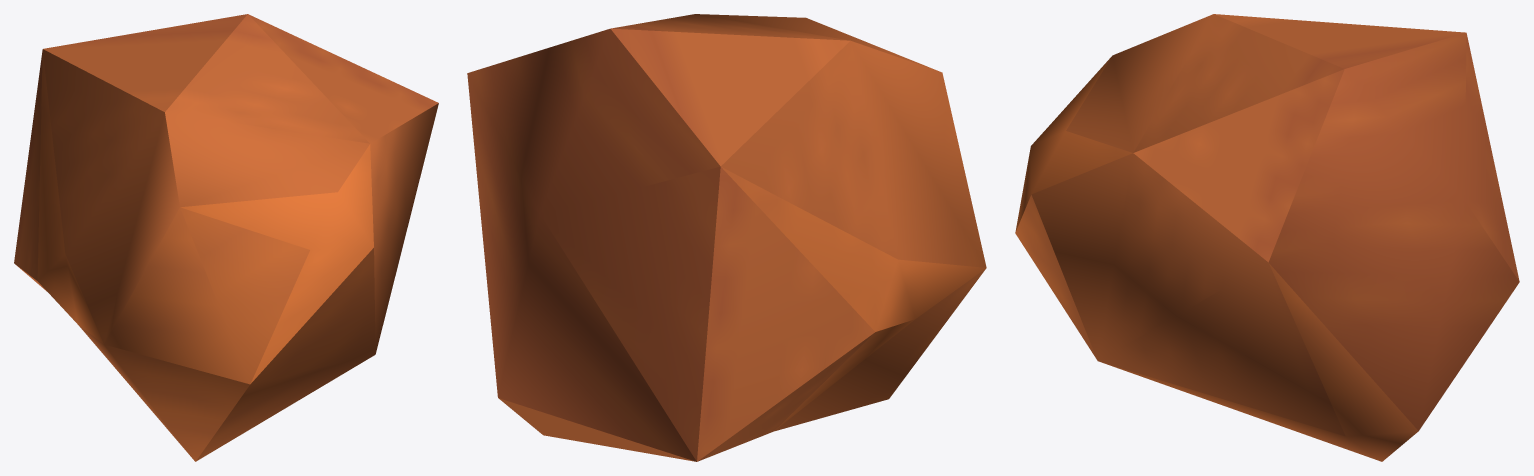
File: copper-nugget-small.glb
3 renders of one model, left to right at view 1: azimuth 30°, elevation 25°; view 2: azimuth 150°, elevation 25°; view 3: azimuth 270°, elevation 25°, orthographic. The views are drawn at different scales.
Parts seen in each view (by area): view 1: Copper_Nugget_Small; view 2: Copper_Nugget_Small; view 3: Copper_Nugget_Small.
Boxes of the visible parts, x1=… form: Copper_Nugget_Small: x1=14, y1=14, x2=438, y2=461; Copper_Nugget_Small: x1=467, y1=14, x2=986, y2=461; Copper_Nugget_Small: x1=1015, y1=14, x2=1519, y2=461.
Size of the model in its own units: 0.1411 by 0.1204 by 0.1461.
1 material, 1 textured.
